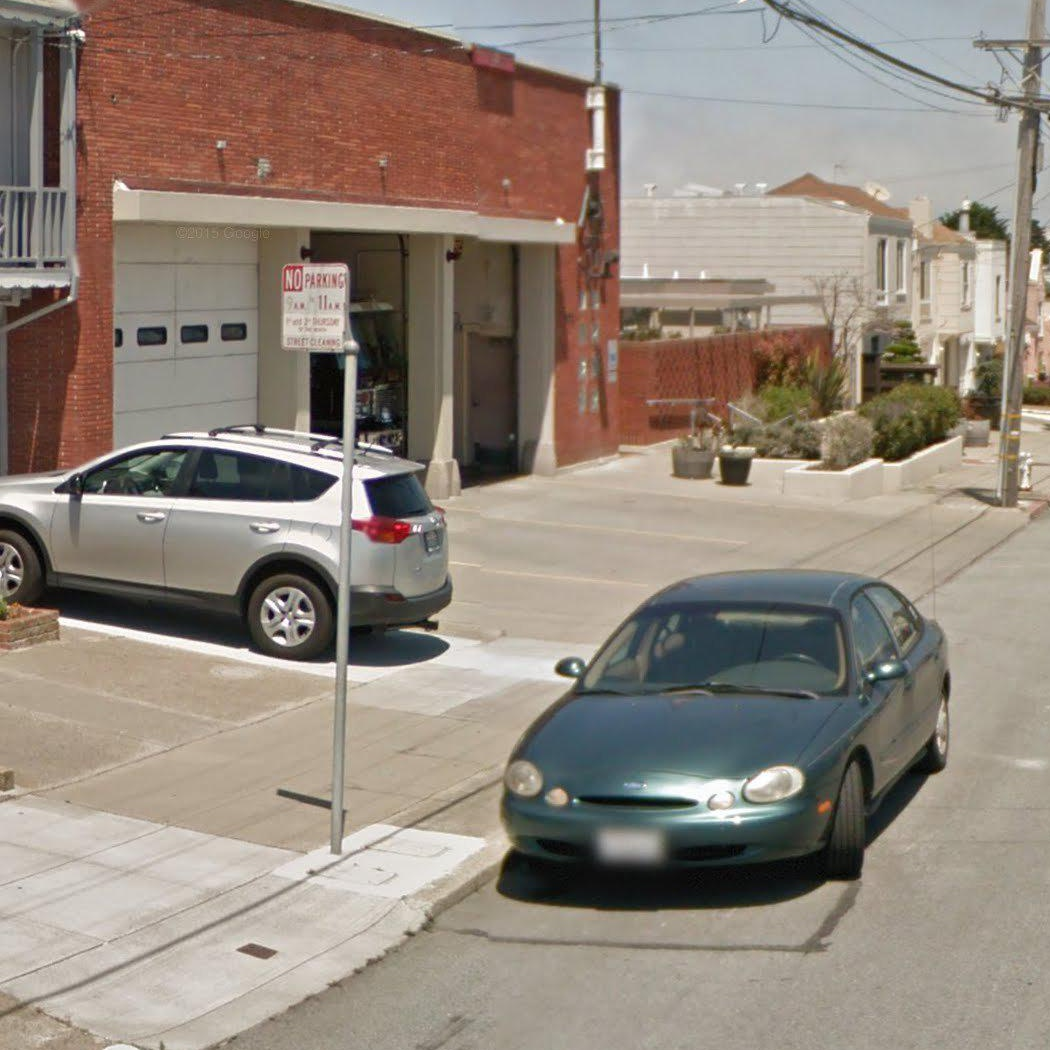No Parking: (279, 262, 351, 354)
